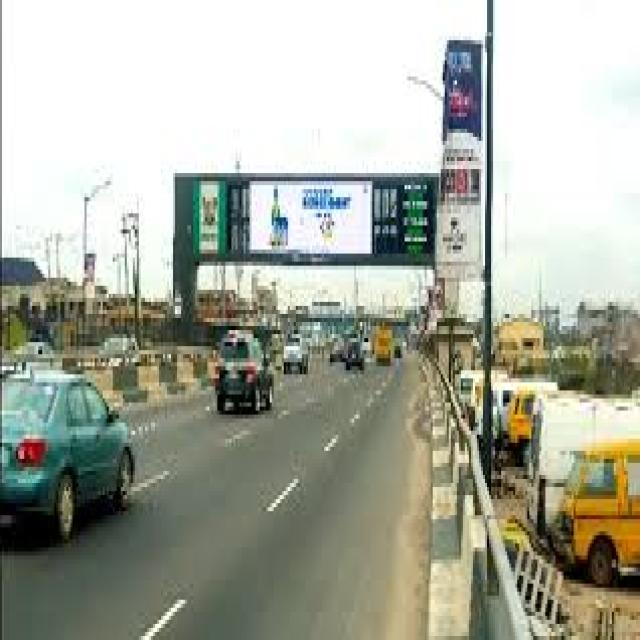Billboard_overhead: (433, 40, 486, 287), (249, 176, 379, 273), (187, 178, 231, 260)
Roadcorner: (405, 374, 431, 636), (131, 391, 216, 449)
Roadlane: (129, 372, 396, 636), (136, 372, 340, 510)
